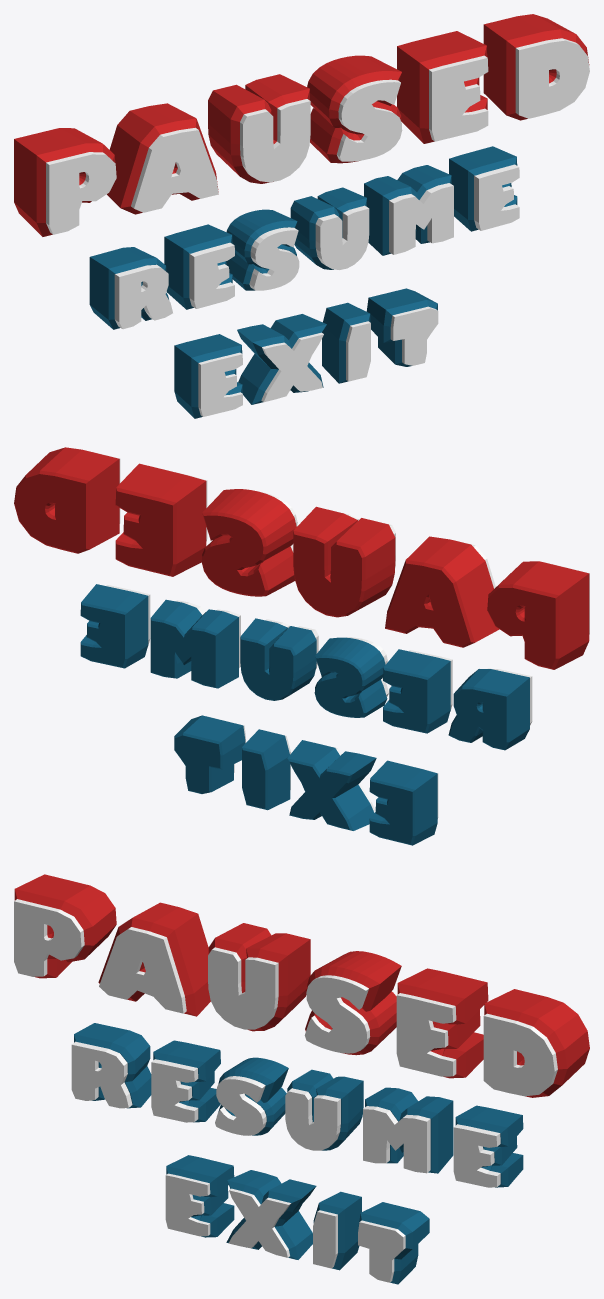
The model's file is PauseMenu.fbx.
The picture shows the model from 3 angles, top to bottom: view 1: azimuth 30°, elevation 25°; view 2: azimuth 150°, elevation 25°; view 3: azimuth 330°, elevation 25°; orthographic projection.
Parts seen in each view (by area): view 1: MoText_1_3, MoText_1_2, MoText_1; view 2: MoText_1_3, MoText_1_2, MoText_1; view 3: MoText_1_3, MoText_1_2, MoText_1.
Boxes of the visible parts, x1,y1,x2,y2 form: MoText_1_3: (14, 14, 589, 236); MoText_1_2: (89, 146, 519, 329); MoText_1: (174, 288, 438, 418); MoText_1_3: (14, 447, 589, 669); MoText_1_2: (80, 584, 532, 750); MoText_1: (174, 715, 438, 845); MoText_1_3: (14, 874, 589, 1097); MoText_1_2: (71, 1023, 523, 1187); MoText_1: (165, 1155, 429, 1284).
Bounding box in the file's own units: 1214 × 633 × 154.
